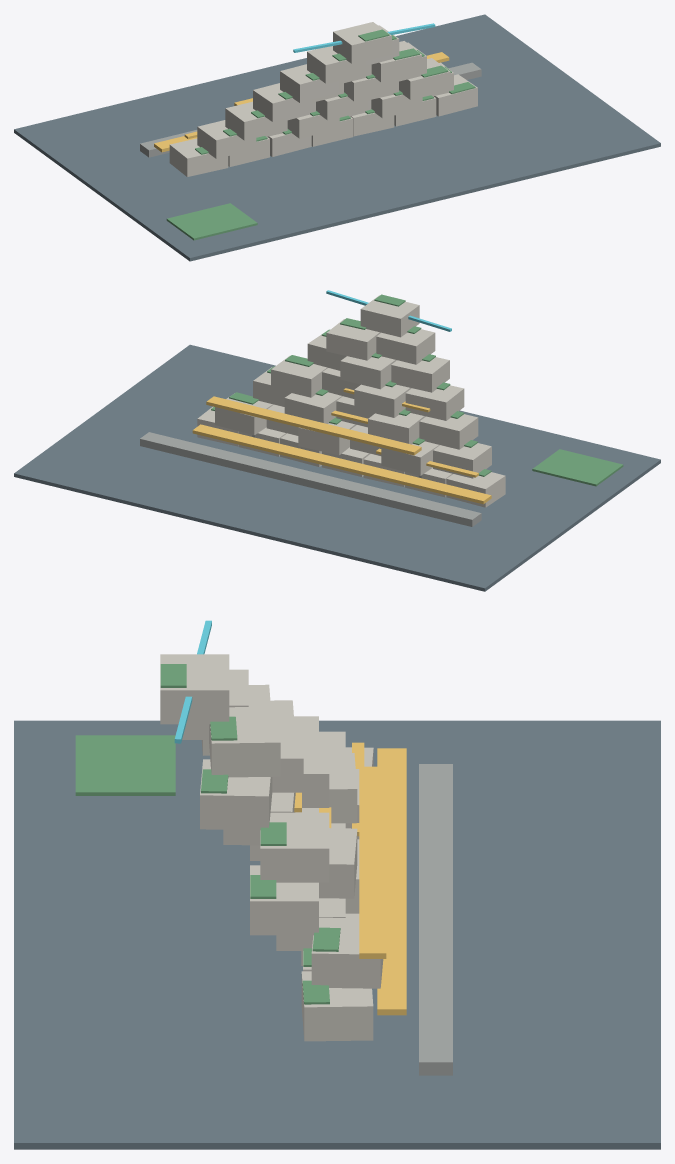
The picture shows the model from 3 angles, top to bottom: view 1: azimuth 30°, elevation 25°; view 2: azimuth 150°, elevation 25°; view 3: azimuth 270°, elevation 25°; orthographic projection. The views are drawn at different scales.
Visible parts, largest first — view 1: 01_site_context / river edge plinth, 07_context / expo landscape marker, 02_mass_model / concrete housing module 28, 02_mass_model / concrete housing module 01, 02_mass_model / concrete housing module 08, 02_mass_model / concrete housing module 23, 02_mass_model / concrete housing module 14, 02_mass_model / concrete housing module 26, 02_mass_model / concrete housing module 19, 02_mass_model / concrete housing module 18, 02_mass_model / concrete housing module 25, 02_mass_model / concrete housing module 07 (+11 smaller); view 2: 01_site_context / river edge plinth, 03_structure / megastructure service datum, 05_circulation / lower pedestrian deck, 05_circulation / upper pedestrian deck, 07_context / expo landscape marker, 02_mass_model / concrete housing module 28, 02_mass_model / concrete housing module 14, 02_mass_model / concrete housing module 23, 02_mass_model / concrete housing module 26, 02_mass_model / concrete housing module 22, 02_mass_model / concrete housing module 19, 02_mass_model / concrete housing module 27 (+17 smaller); view 3: 01_site_context / river edge plinth, 03_structure / megastructure service datum, 05_circulation / lower pedestrian deck, 07_context / expo landscape marker, 05_circulation / upper pedestrian deck, 02_mass_model / concrete housing module 22, 02_mass_model / concrete housing module 27, 02_mass_model / concrete housing module 28, 02_mass_model / concrete housing module 07, 02_mass_model / concrete housing module 25, 02_mass_model / concrete housing module 18, 02_mass_model / concrete housing module 13 (+7 smaller).
Boxes of the visible parts, <box> form: 01_site_context / river edge plinth: <box>14,14,660,261</box>; 07_context / expo landscape marker: <box>166,203,257,240</box>; 02_mass_model / concrete housing module 28: <box>333,22,391,63</box>; 02_mass_model / concrete housing module 01: <box>169,138,228,176</box>; 02_mass_model / concrete housing module 08: <box>197,120,256,158</box>; 02_mass_model / concrete housing module 23: <box>280,64,339,102</box>; 02_mass_model / concrete housing module 14: <box>225,101,284,140</box>; 02_mass_model / concrete housing module 26: <box>307,46,365,83</box>; 02_mass_model / concrete housing module 19: <box>253,83,311,121</box>; 02_mass_model / concrete housing module 18: <box>399,58,450,99</box>; 02_mass_model / concrete housing module 25: <box>371,41,421,82</box>; 02_mass_model / concrete housing module 07: <box>433,74,477,116</box>; 01_site_context / river edge plinth: <box>14,344,660,591</box>; 03_structure / megastructure service datum: <box>140,432,481,526</box>; 05_circulation / lower pedestrian deck: <box>192,424,491,504</box>; 05_circulation / upper pedestrian deck: <box>206,396,421,455</box>; 07_context / expo landscape marker: <box>532,449,623,486</box>; 02_mass_model / concrete housing module 28: <box>360,295,419,337</box>; 02_mass_model / concrete housing module 14: <box>419,414,478,449</box>; 02_mass_model / concrete housing module 23: <box>391,357,449,392</box>; 02_mass_model / concrete housing module 26: <box>376,329,435,364</box>; 02_mass_model / concrete housing module 22: <box>271,355,327,397</box>; 02_mass_model / concrete housing module 19: <box>405,385,464,420</box>; 02_mass_model / concrete housing module 27: <box>326,319,380,360</box>; 01_site_context / river edge plinth: <box>14,720,660,1149</box>; 03_structure / megastructure service datum: <box>419,764,452,1075</box>; 05_circulation / lower pedestrian deck: <box>377,748,406,1015</box>; 07_context / expo landscape marker: <box>75,735,175,795</box>; 05_circulation / upper pedestrian deck: <box>359,766,386,958</box>; 02_mass_model / concrete housing module 22: <box>260,812,329,882</box>; 02_mass_model / concrete housing module 27: <box>209,706,280,777</box>; 02_mass_model / concrete housing module 28: <box>160,654,229,724</box>; 02_mass_model / concrete housing module 07: <box>301,971,373,1041</box>; 02_mass_model / concrete housing module 25: <box>200,759,272,830</box>; 02_mass_model / concrete housing module 18: <box>250,865,318,935</box>; 02_mass_model / concrete housing module 13: <box>311,917,383,988</box>.
Size of the model in its own units: 34 by 9.61 by 22.
